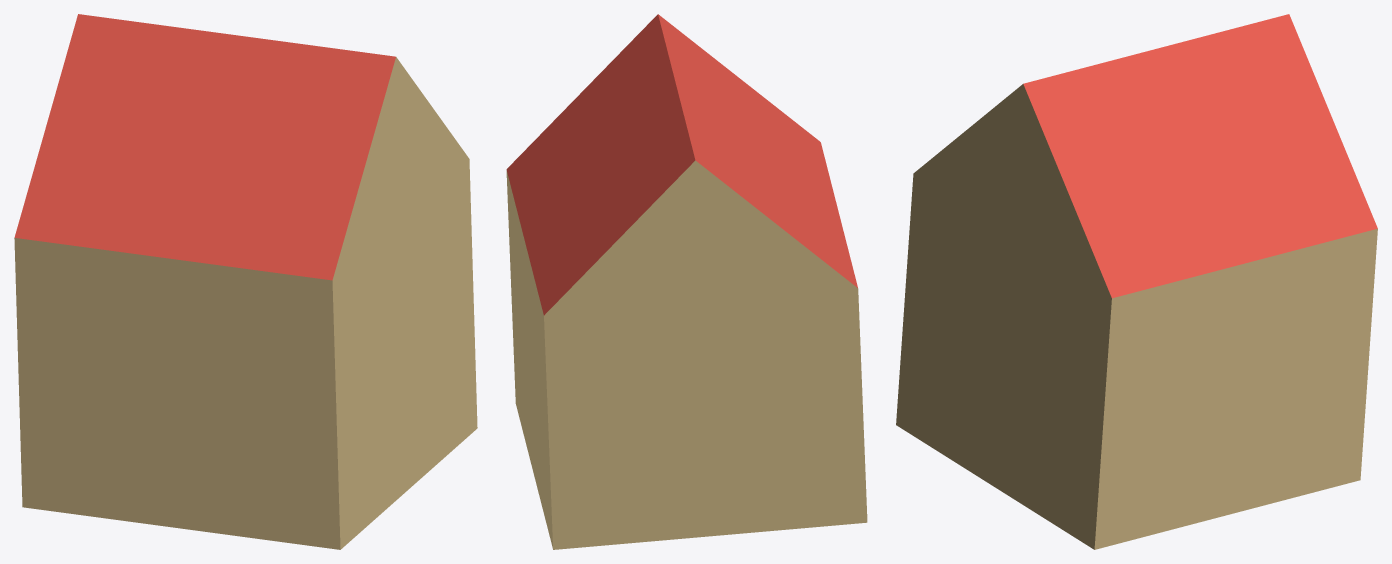
Rendered from house2.fbx.
3 renders of one model, left to right at view 1: azimuth 30°, elevation 25°; view 2: azimuth 150°, elevation 25°; view 3: azimuth 270°, elevation 25°, orthographic. The views are drawn at different scales.
Parts seen in each view (by area): view 1: Cube.005; view 2: Cube.005; view 3: Cube.005.
Part boxes in pixels (x1=…): Cube.005: x1=14, y1=14, x2=477, y2=549; Cube.005: x1=506, y1=14, x2=867, y2=549; Cube.005: x1=896, y1=14, x2=1377, y2=549.
Size of the model in its own units: 794 by 798 by 820.
